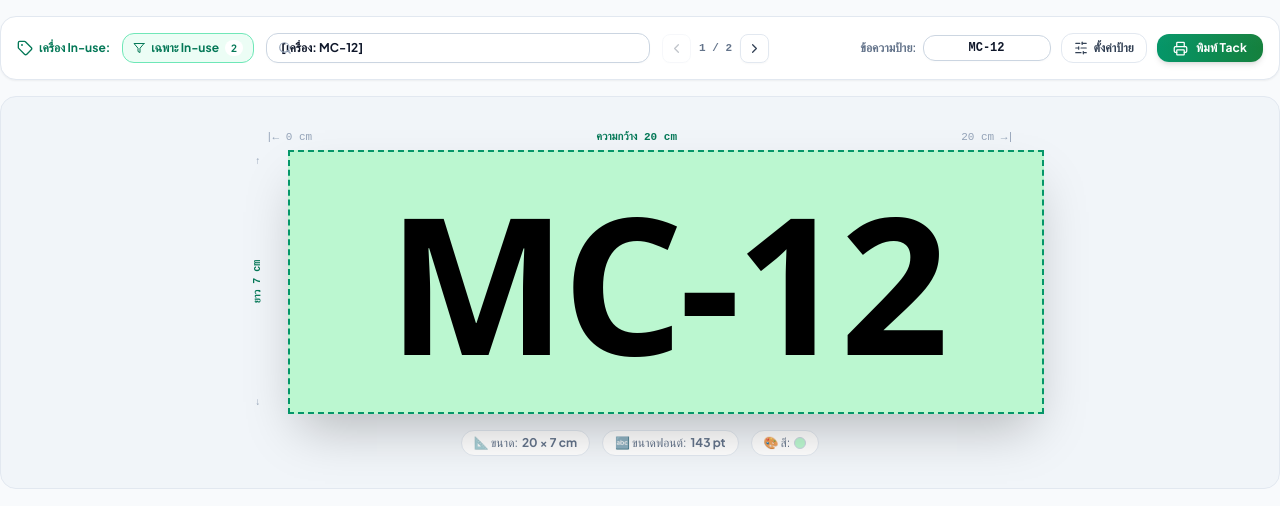
Test: CylinderMachineTagView Component (Customizable In-Use Machine Tag) › toggles in-use filter to show all machines including spare
The image size is (1280, 506).
Click the button "เฉพาะ In-use 2" at {"x": 188, "y": 48}, box [122,33,254,63]
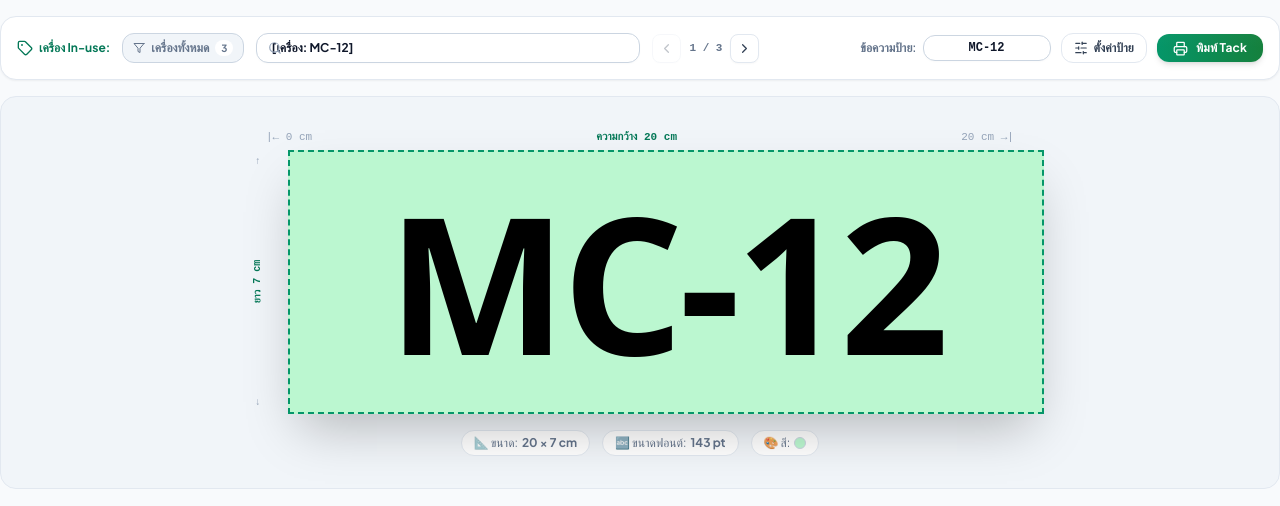
Result: the text "เครื่องทั้งหมด" is shown at [151,40,209,56]
Result: the text "3" is shown at [215,40,233,56]
